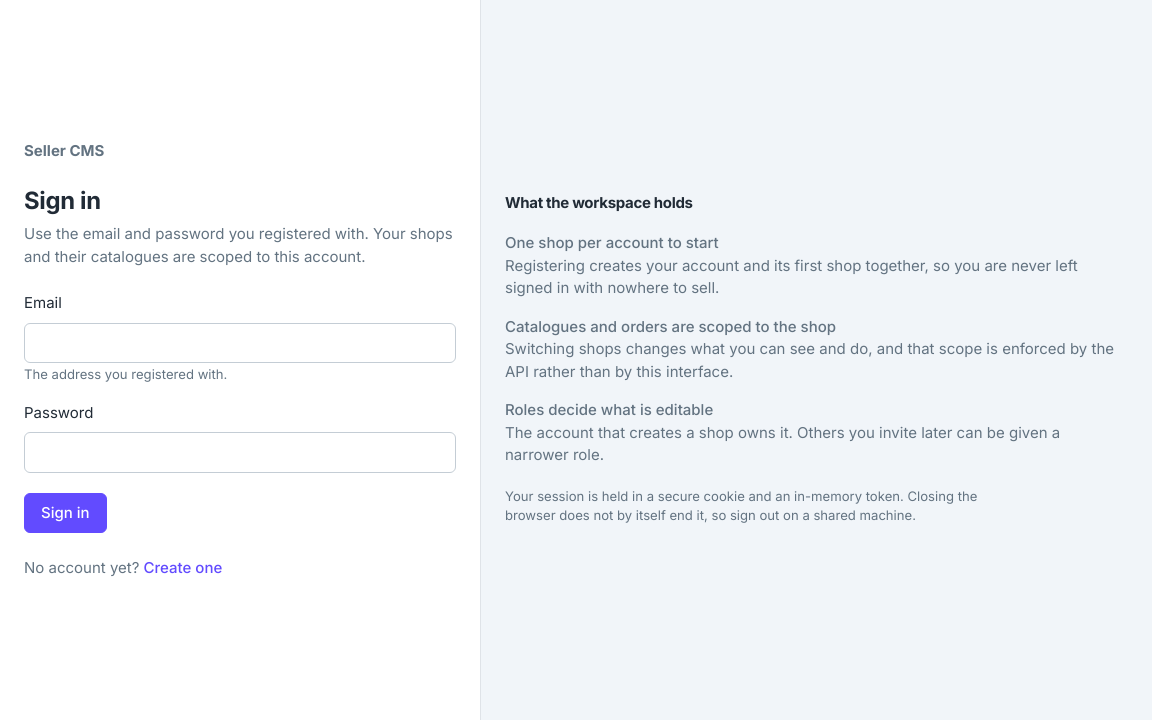
Scenario: login form › disables the submit button and shows a pending label while submitting
Type "seller@example.com" into the field labelled "Email". click: [240, 343]
box: [24, 323, 456, 363]
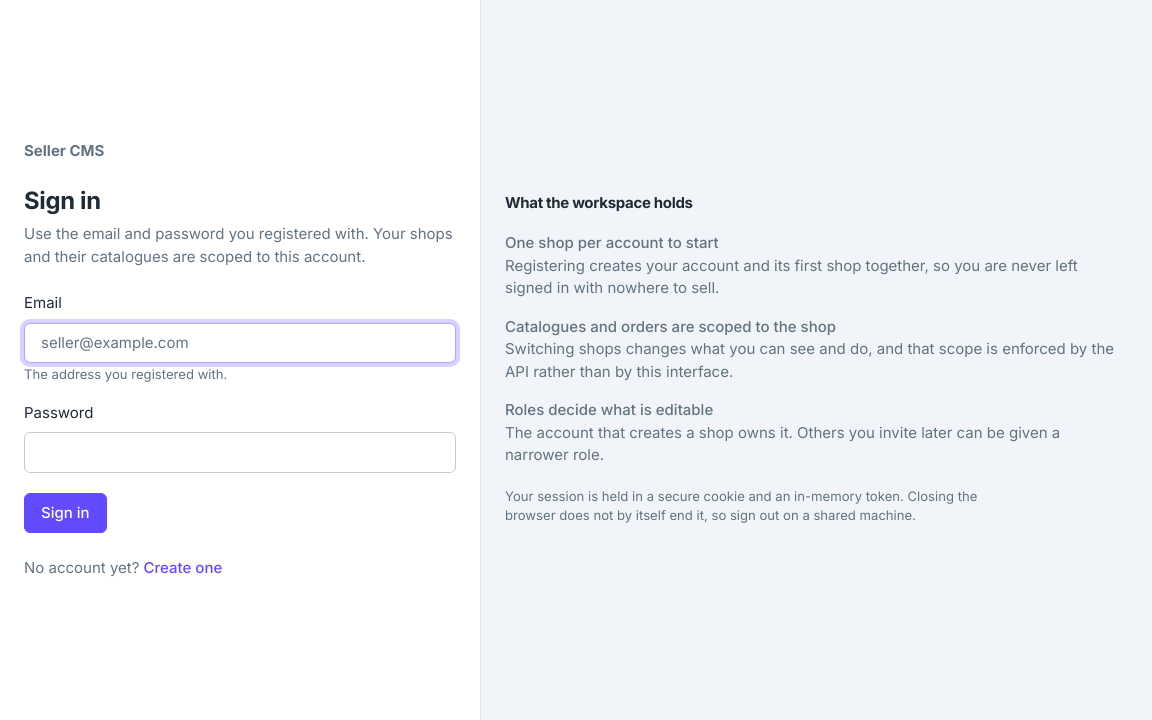
Type "a-perfectly-fine-password" into the password field labelled "Password". click: [240, 453]
box: [24, 432, 456, 473]
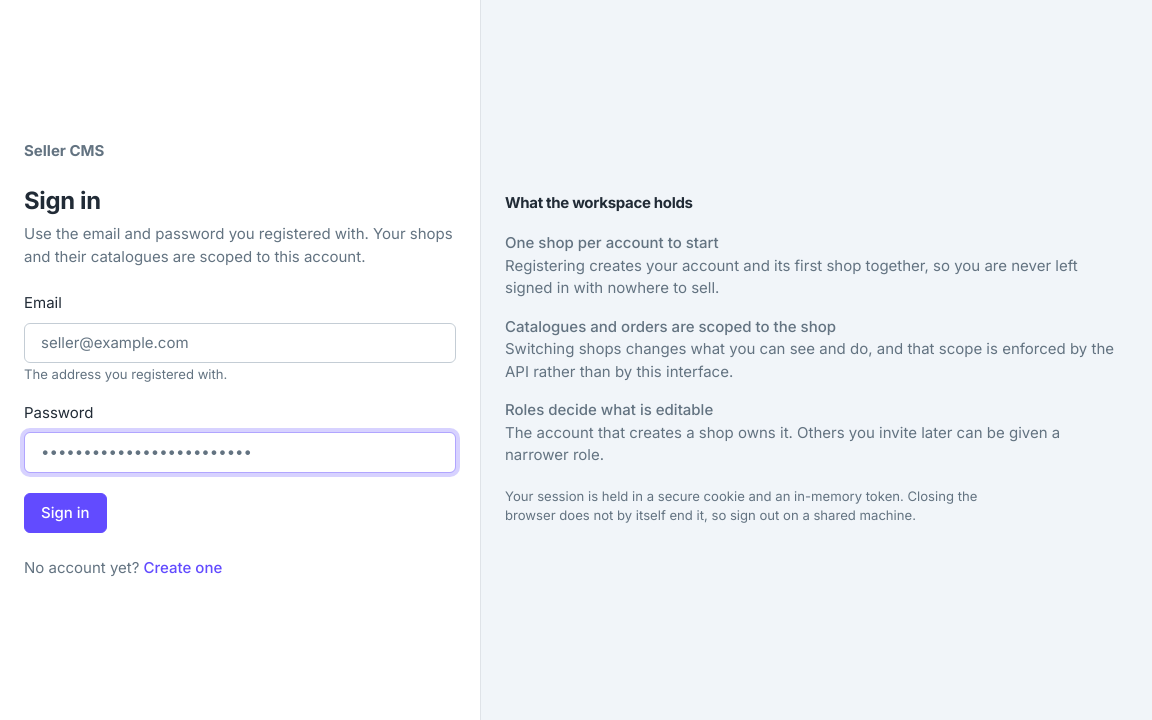
Click the button "Sign in". click: [65, 513]
box: [24, 493, 107, 533]
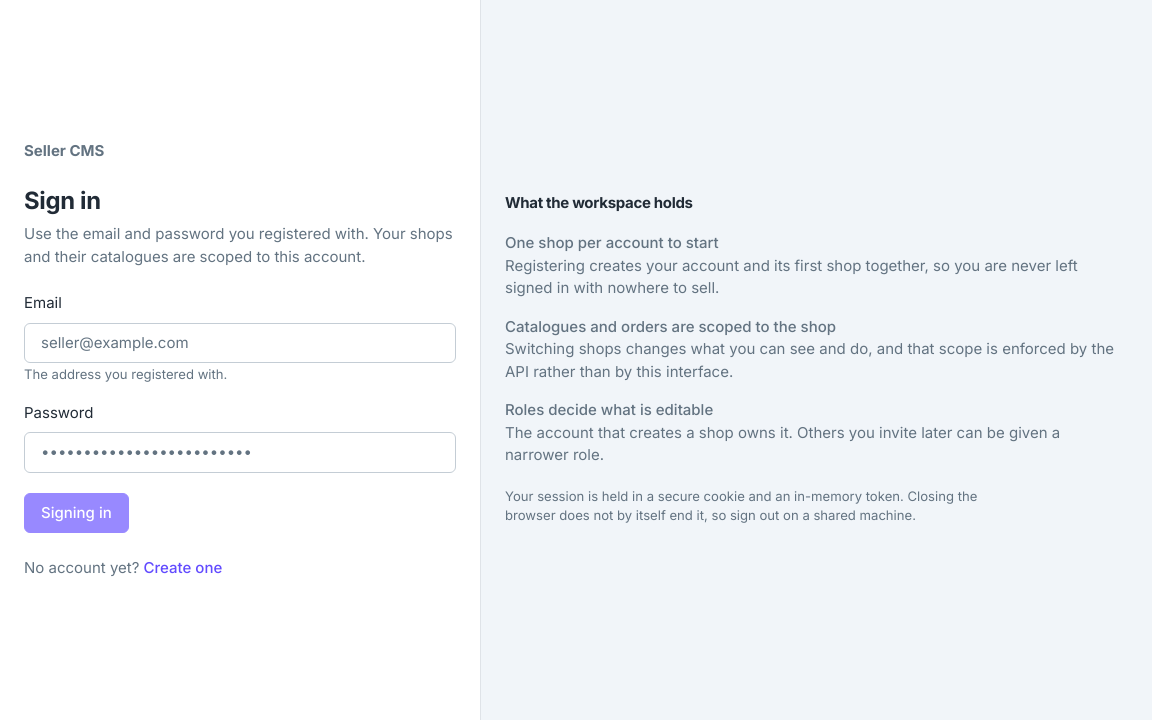
Now the button "Signing in" is disabled, box [24, 493, 129, 533]
